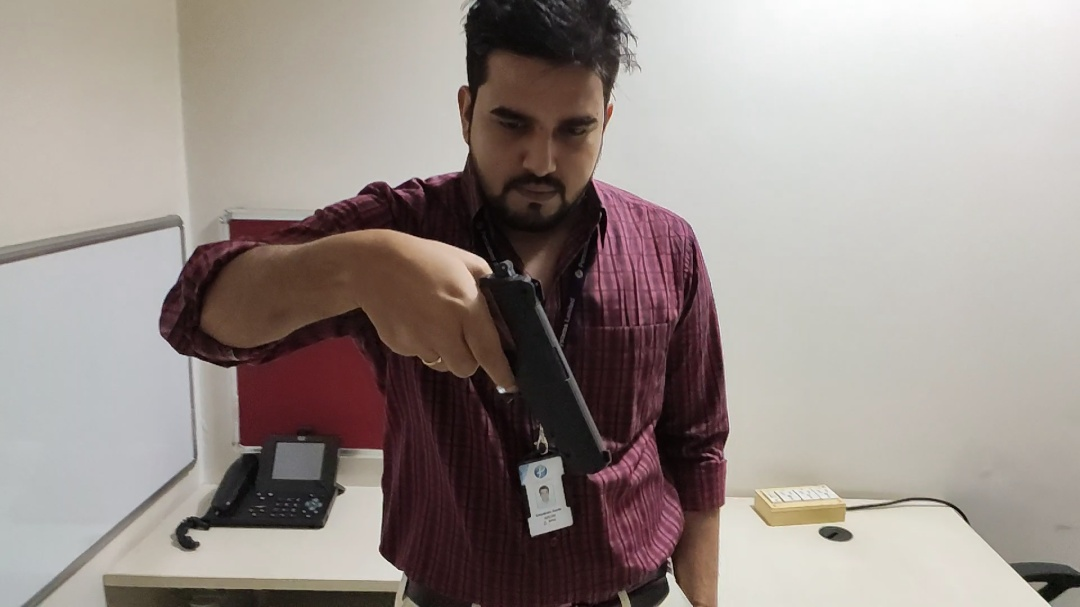gun: (433, 254, 633, 480)
